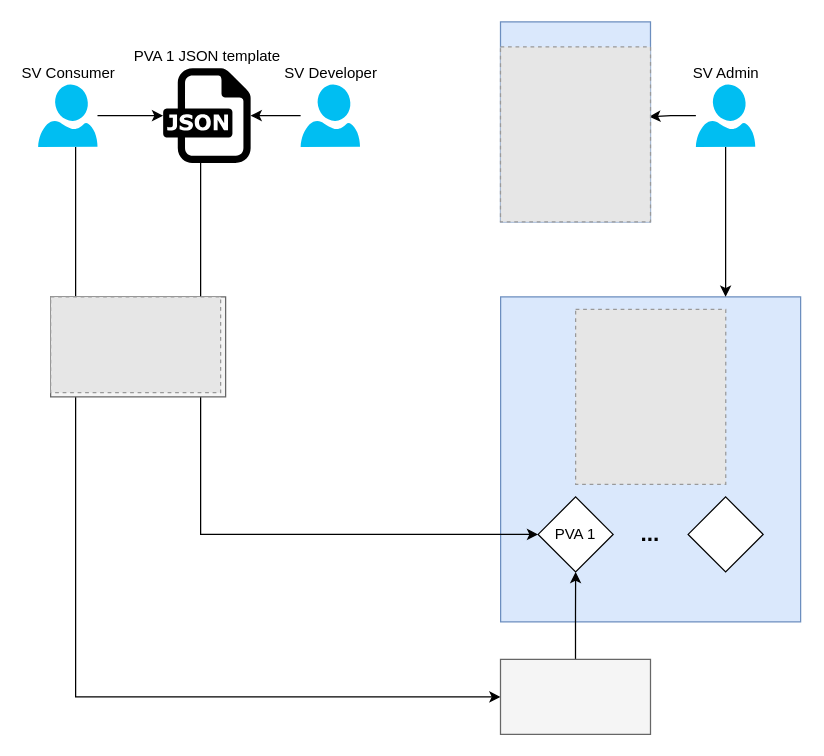
The diagram is 824 pixels wide and 756 high, and some of its shapes have lost their labels. Grey dashed boxes stand in for pictures. The shapes that lost their labels are listed below. From the top down, each one's centre as x and y in pixels, then its label:
(x=725, y=534): PVA N
(x=574, y=696): AUT
